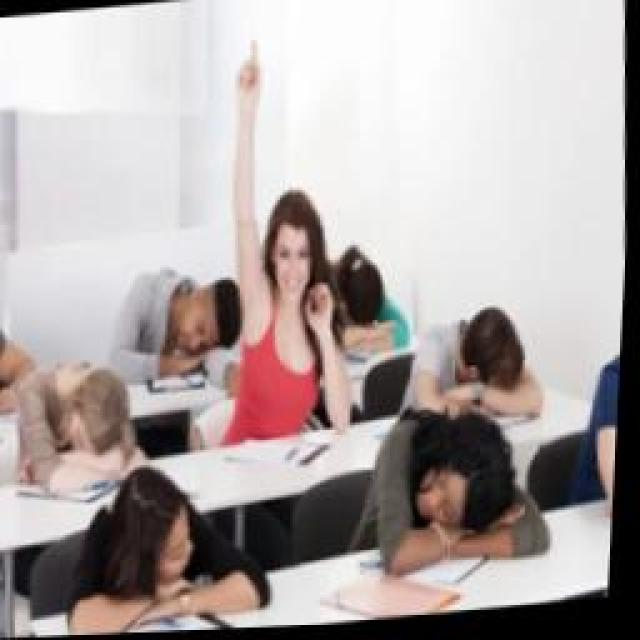sleep: (55, 457, 287, 635), (350, 395, 558, 577), (395, 302, 557, 442), (10, 352, 145, 500), (100, 260, 252, 390), (315, 245, 423, 357)
study: (210, 30, 375, 452)
